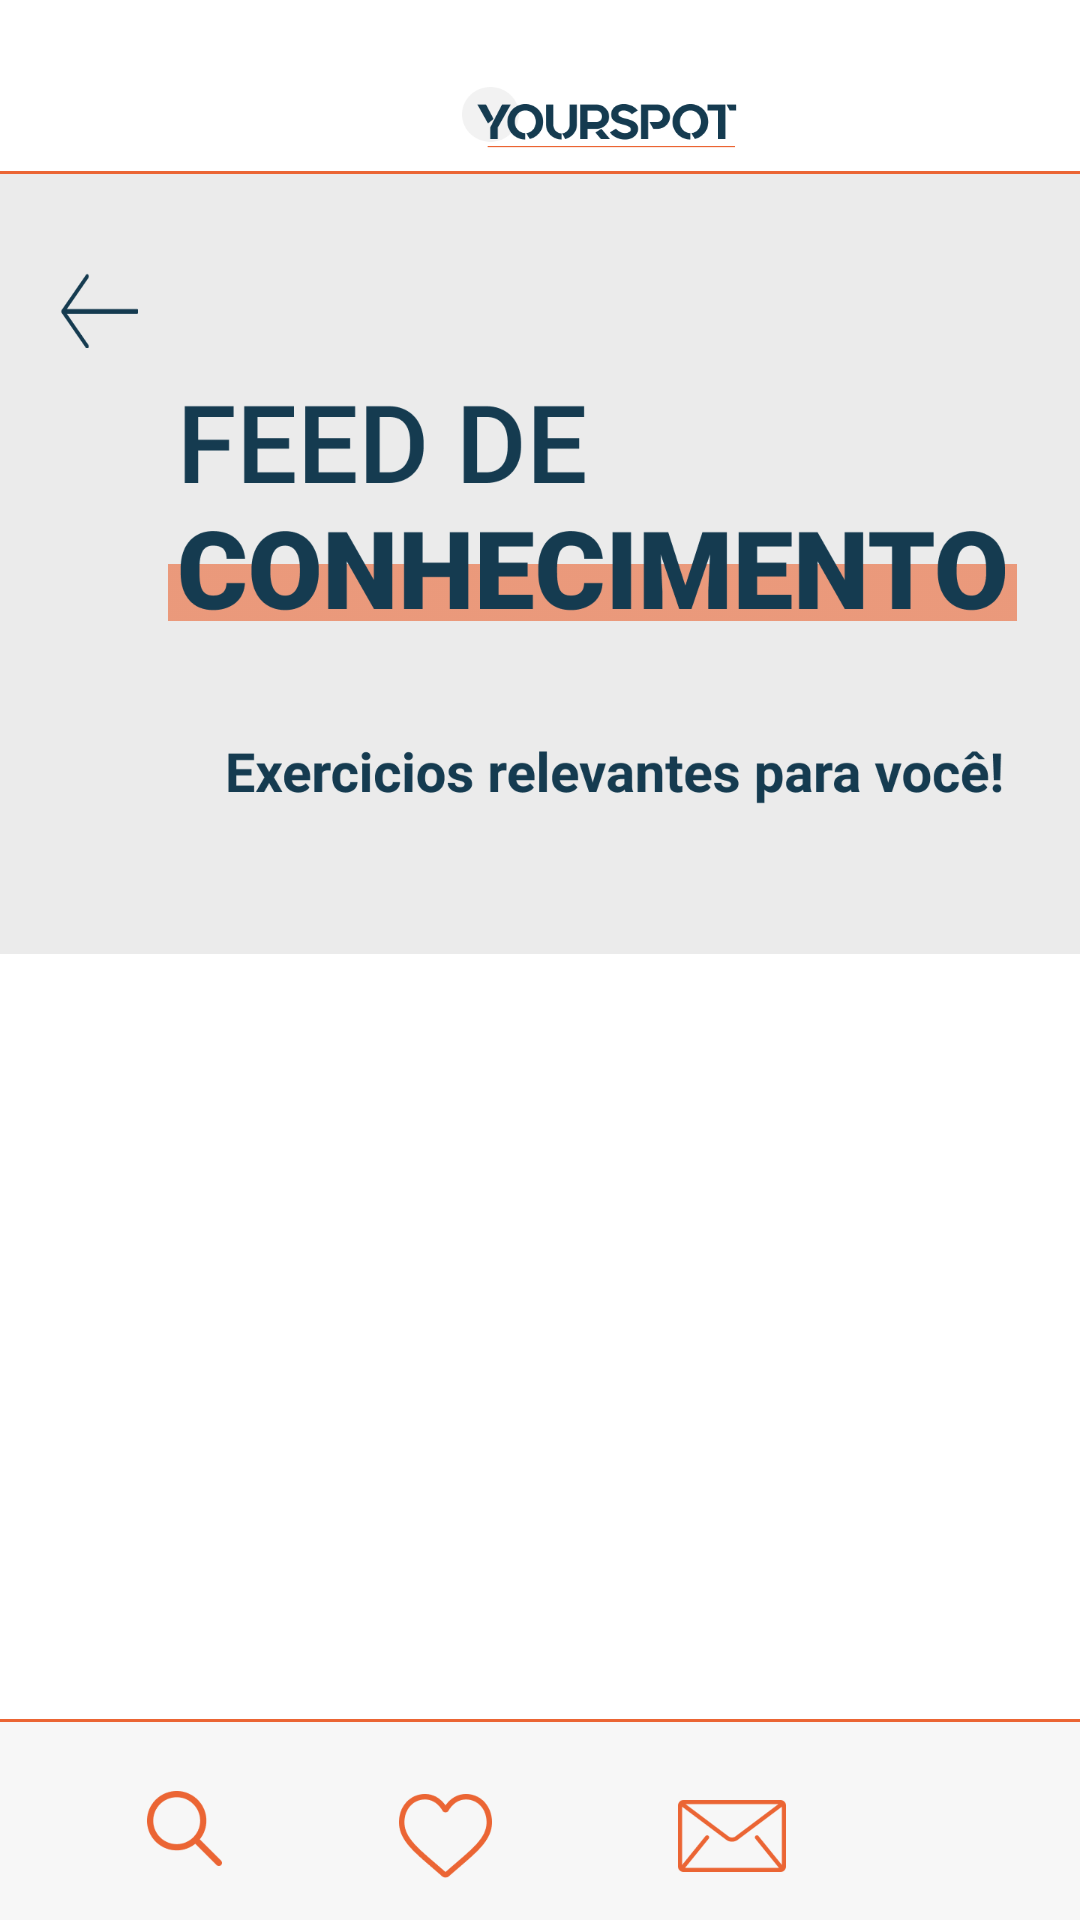

Icon click points for this 1080w x 1920h phone screenshot, format (x,y):
iconecoracao menuinf: (445,1836)
iconemensagem menuinf: (732,1836)
iconepesquisa menuinf: (184,1828)
seta retorno: (99,311)
